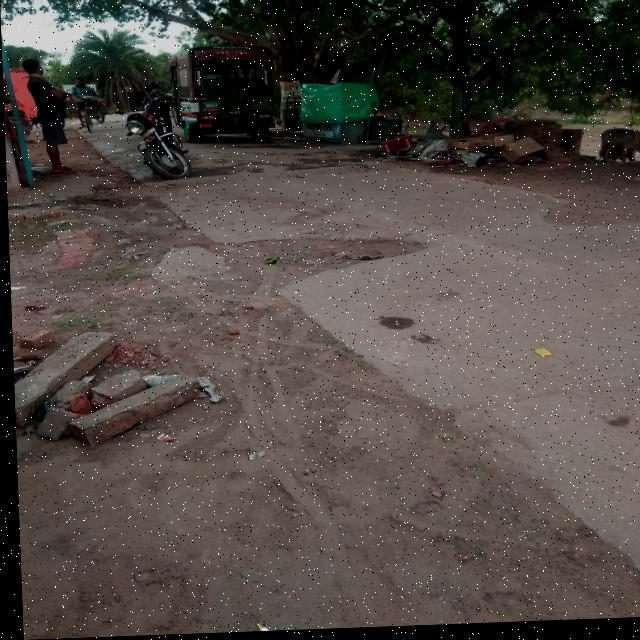plate: (138, 128, 156, 141), (198, 124, 211, 130)
